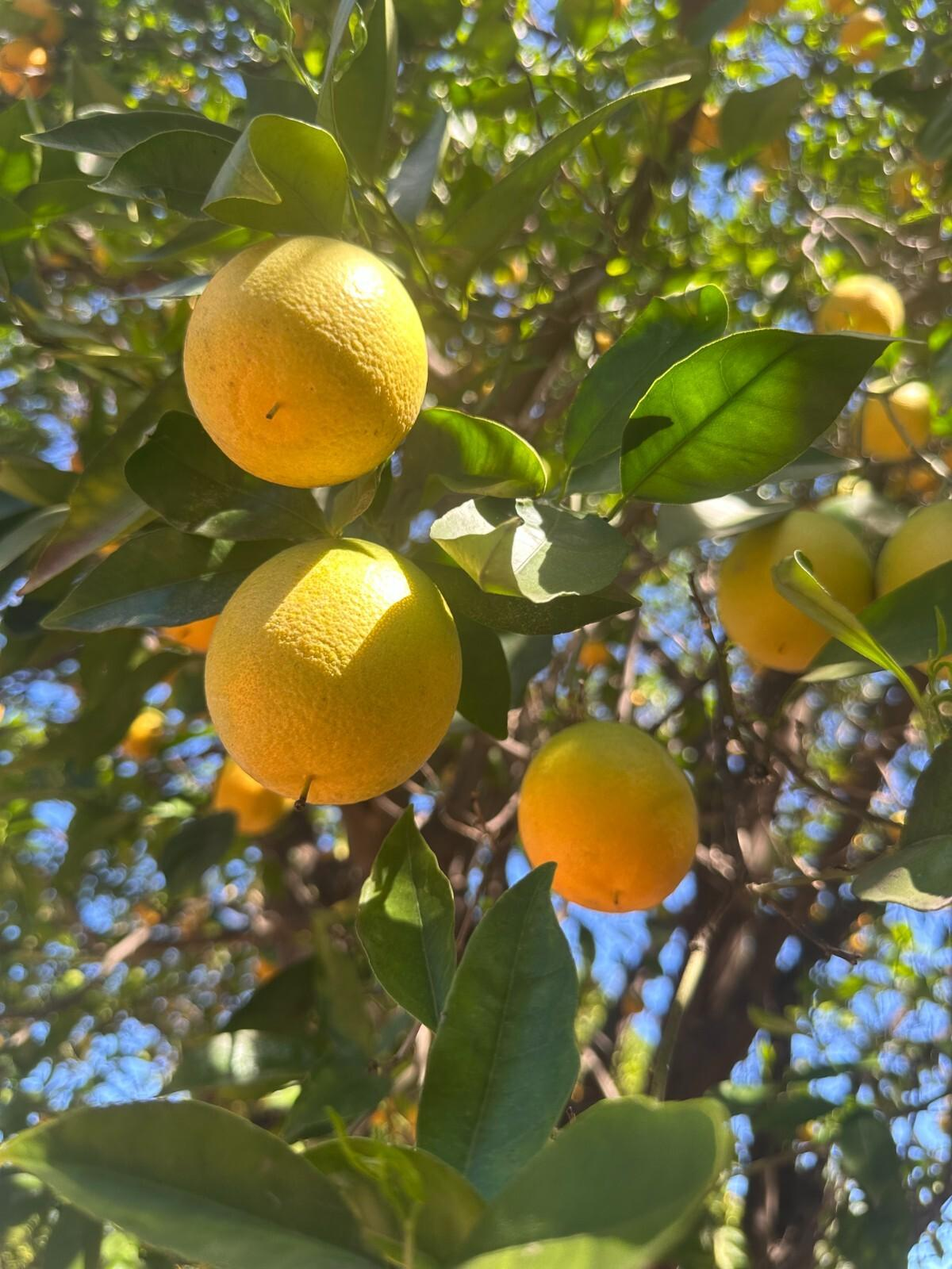orange: (205, 539, 461, 804), (183, 236, 426, 485), (519, 722, 699, 912), (716, 509, 875, 671), (876, 499, 951, 679), (852, 374, 932, 460), (0, 0, 66, 101), (213, 757, 292, 835), (815, 274, 904, 335), (839, 8, 889, 63), (120, 704, 174, 753), (159, 615, 218, 654), (688, 97, 729, 152), (569, 628, 610, 665), (718, 8, 749, 30), (745, 0, 786, 16), (823, 0, 855, 14)
